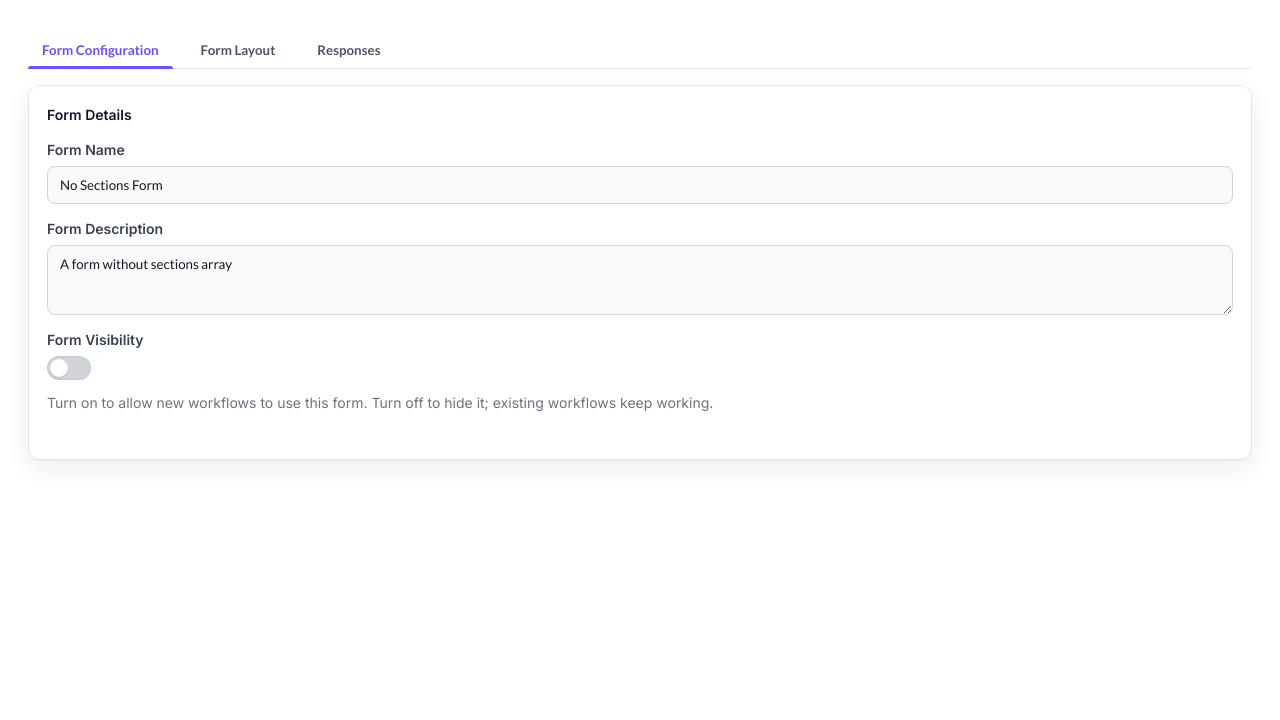
it: ViewForm page › handles form layout without sections array
This screenshot has width=1280, height=720.
expect the text "Form Details" is shown: met, box [47,106,132,123]
Switch to layout
Click the tab "Form Layout". click: (238, 50)
box: [187,32,289,68]
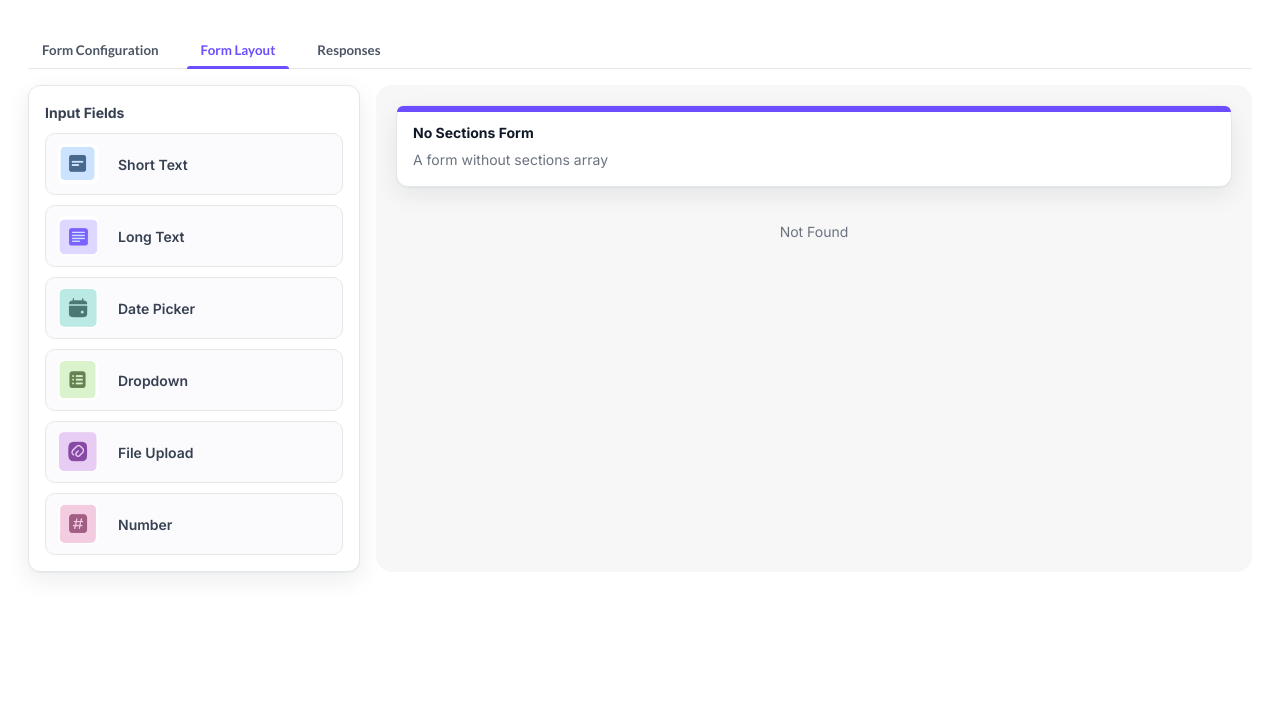
expect the text "No Sections Form" is shown: met, box [413,124,534,141]
expect the text "Not Found" is shown: met, box [780,223,848,240]
